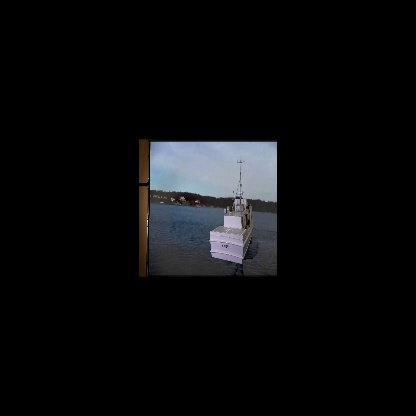YP689: (209, 155, 254, 264)
